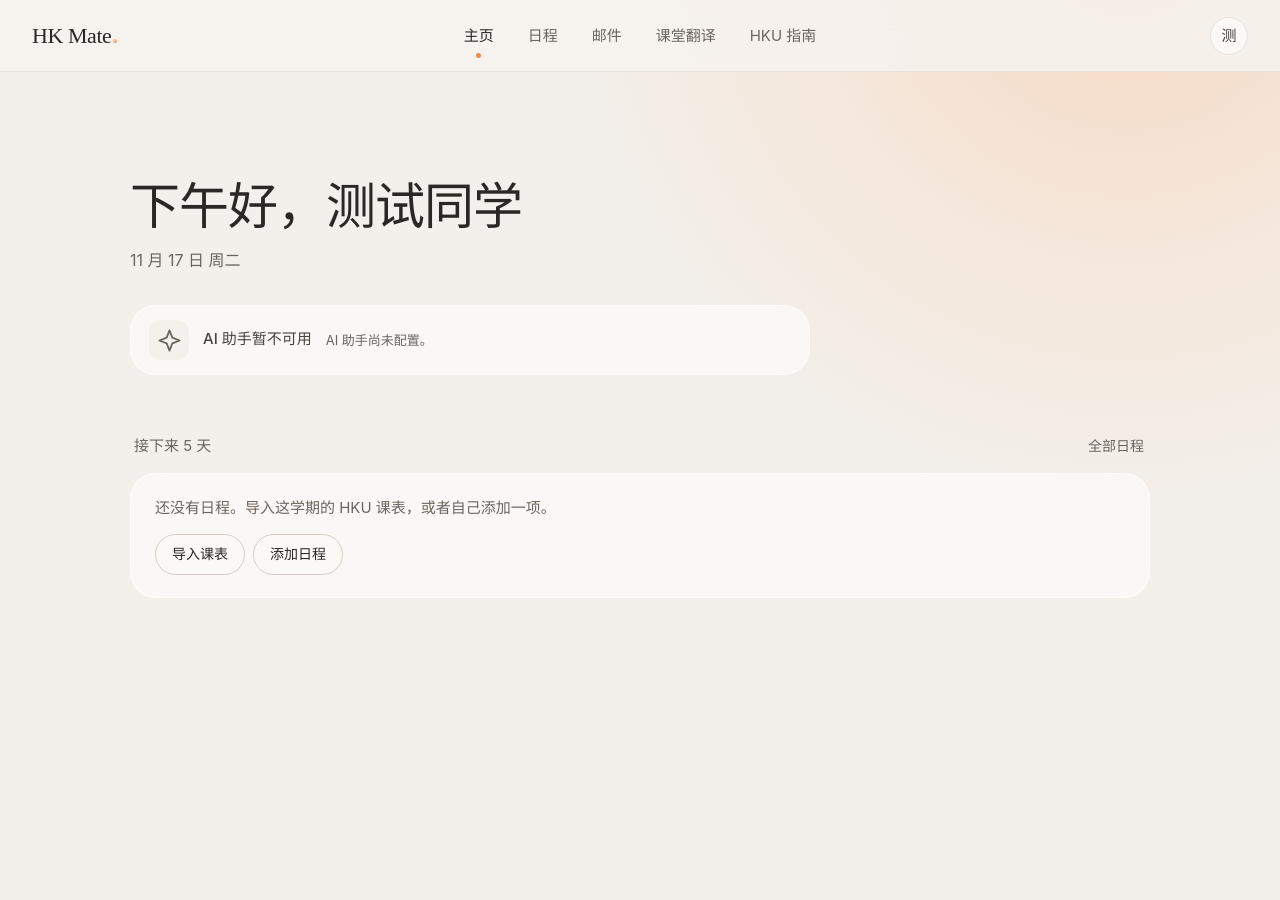
Test: account pages › shows the five main places and switches pages inside a section
The image size is (1280, 900).
Expected: the heading "下午好，测试同学" is shown, [130,176,522,236]
Click the button "邮件" at (607, 36), box [578,16,636,56]
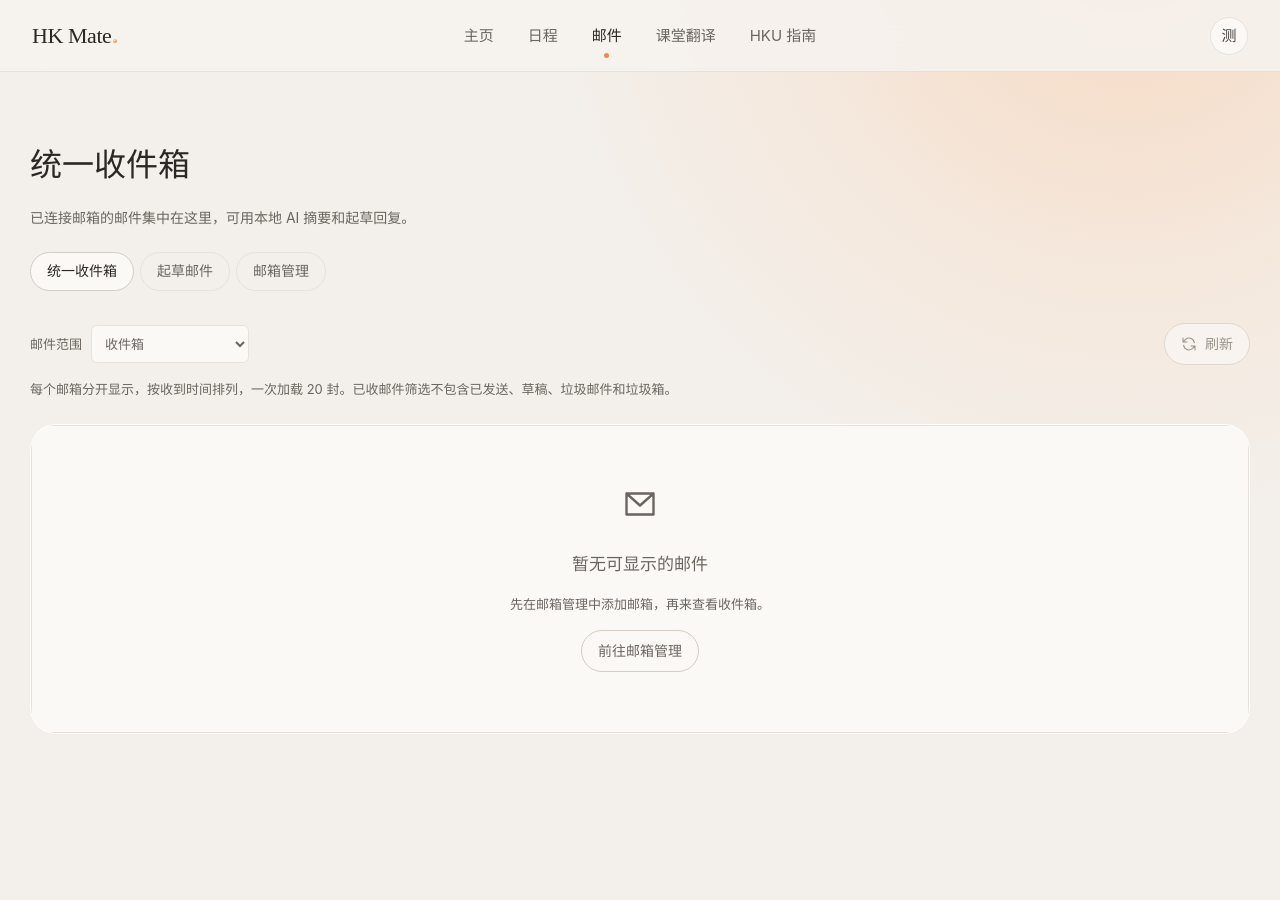
Now the heading "统一收件箱" is shown, box [30,145,190,184]
Now the buttons read "统一收件箱", "起草邮件", "邮箱管理", in this order
Click the button "邮箱管理" at (281, 272), box [236,252,326,291]
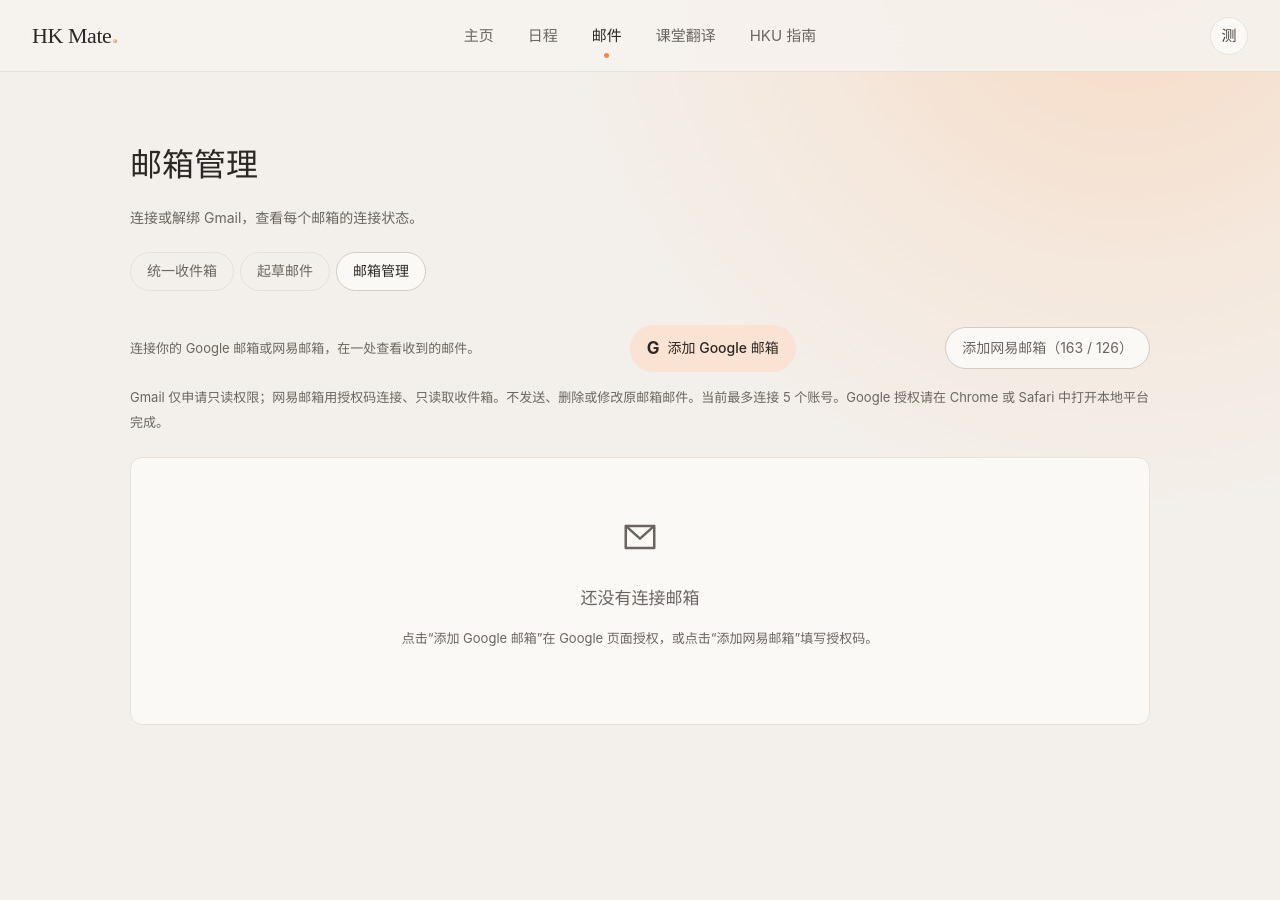
Now the heading "邮箱管理" is shown, box [130,145,258,184]
Now the button "G 添加 Google 邮箱" is enabled, box [630,324,796,372]
Click the button "起草邮件" at (285, 272), box [240,252,330,291]
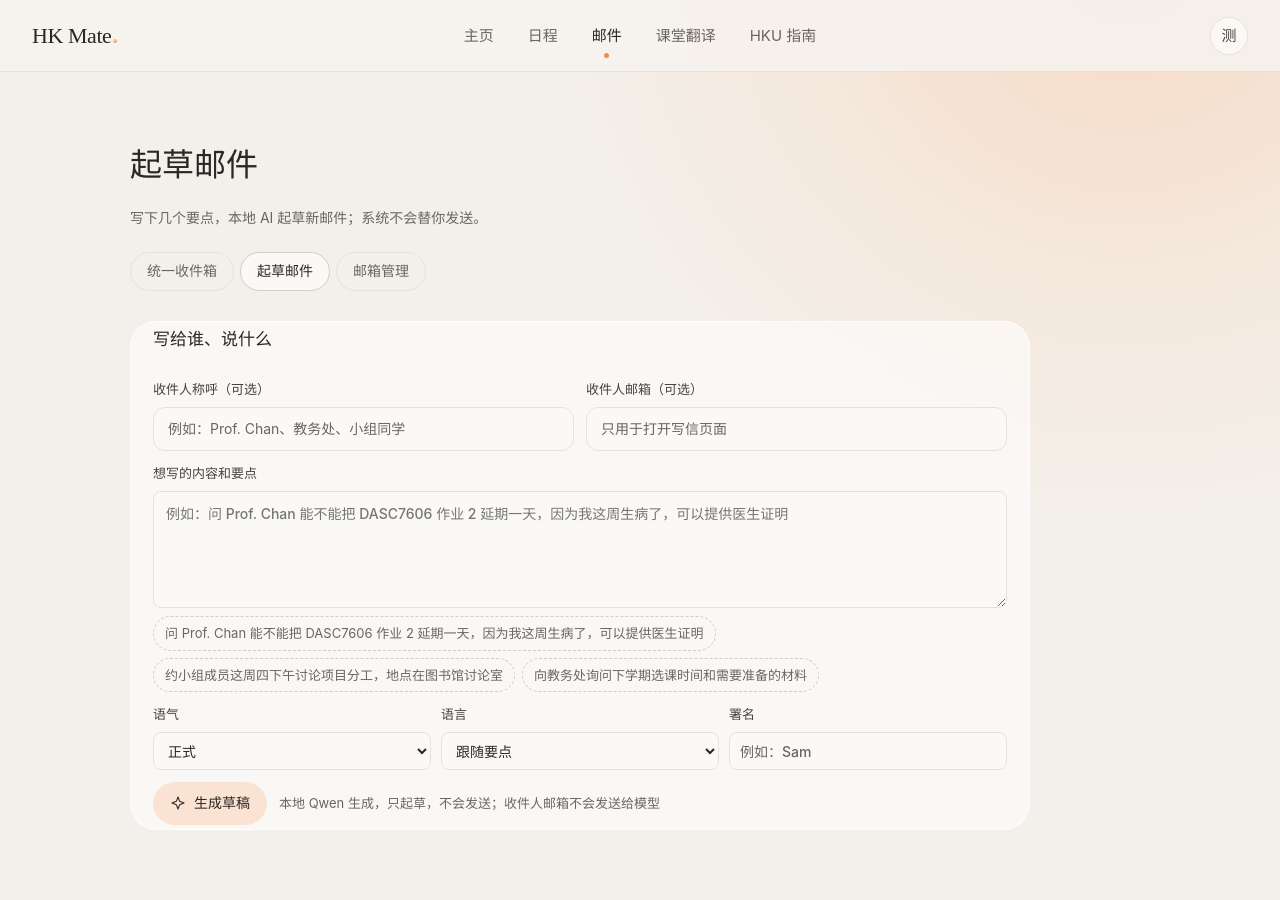
Now the element named "起草新邮件" is shown, box [130,321,1030,830]
